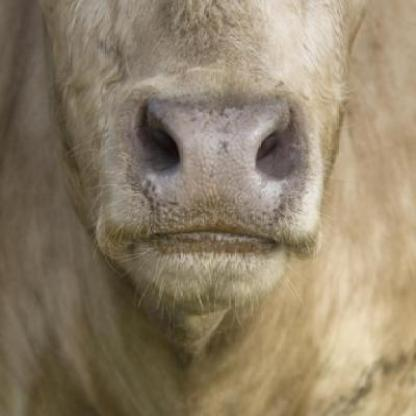lower: (192, 263, 233, 281)
mouth: (104, 82, 324, 304)
upper: (186, 159, 240, 193)
